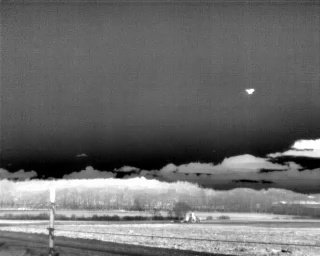DRONE: (242, 85, 258, 99)
